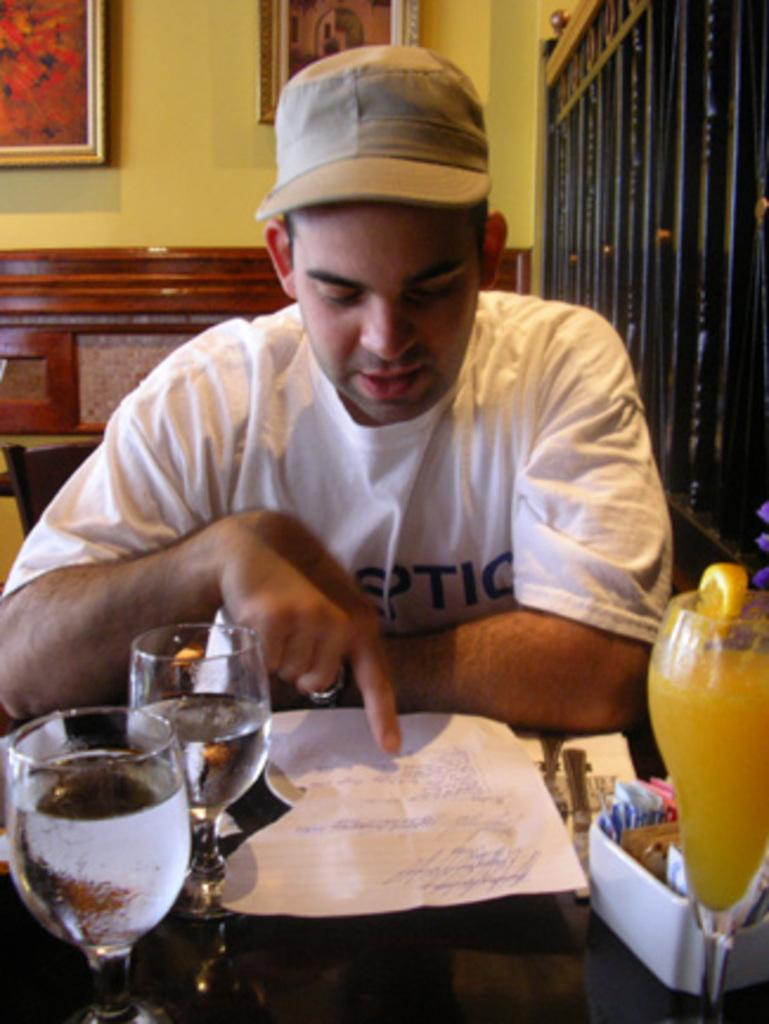Hat: (255, 44, 492, 222)
